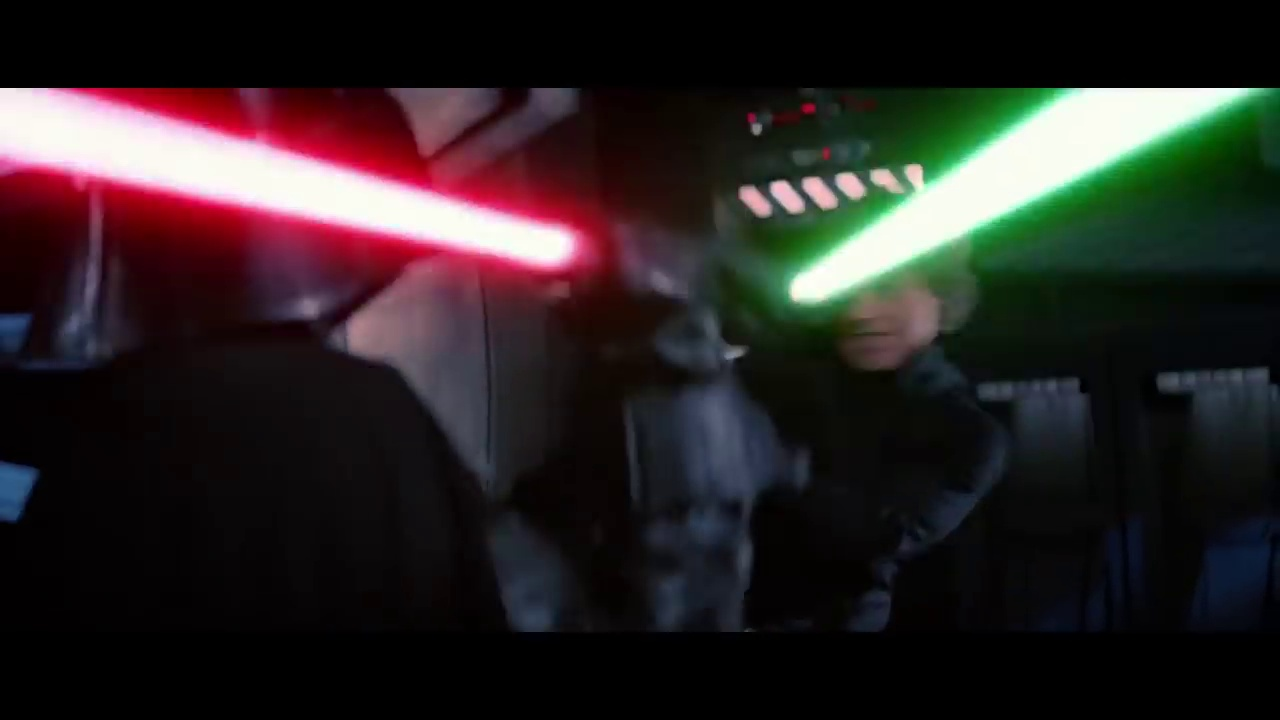lightsaber: (753, 85, 1272, 367), (1, 88, 600, 299)
